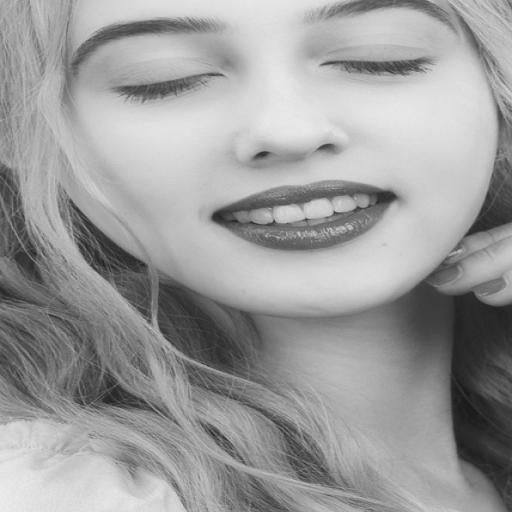lipstick: (216, 180, 394, 250)
